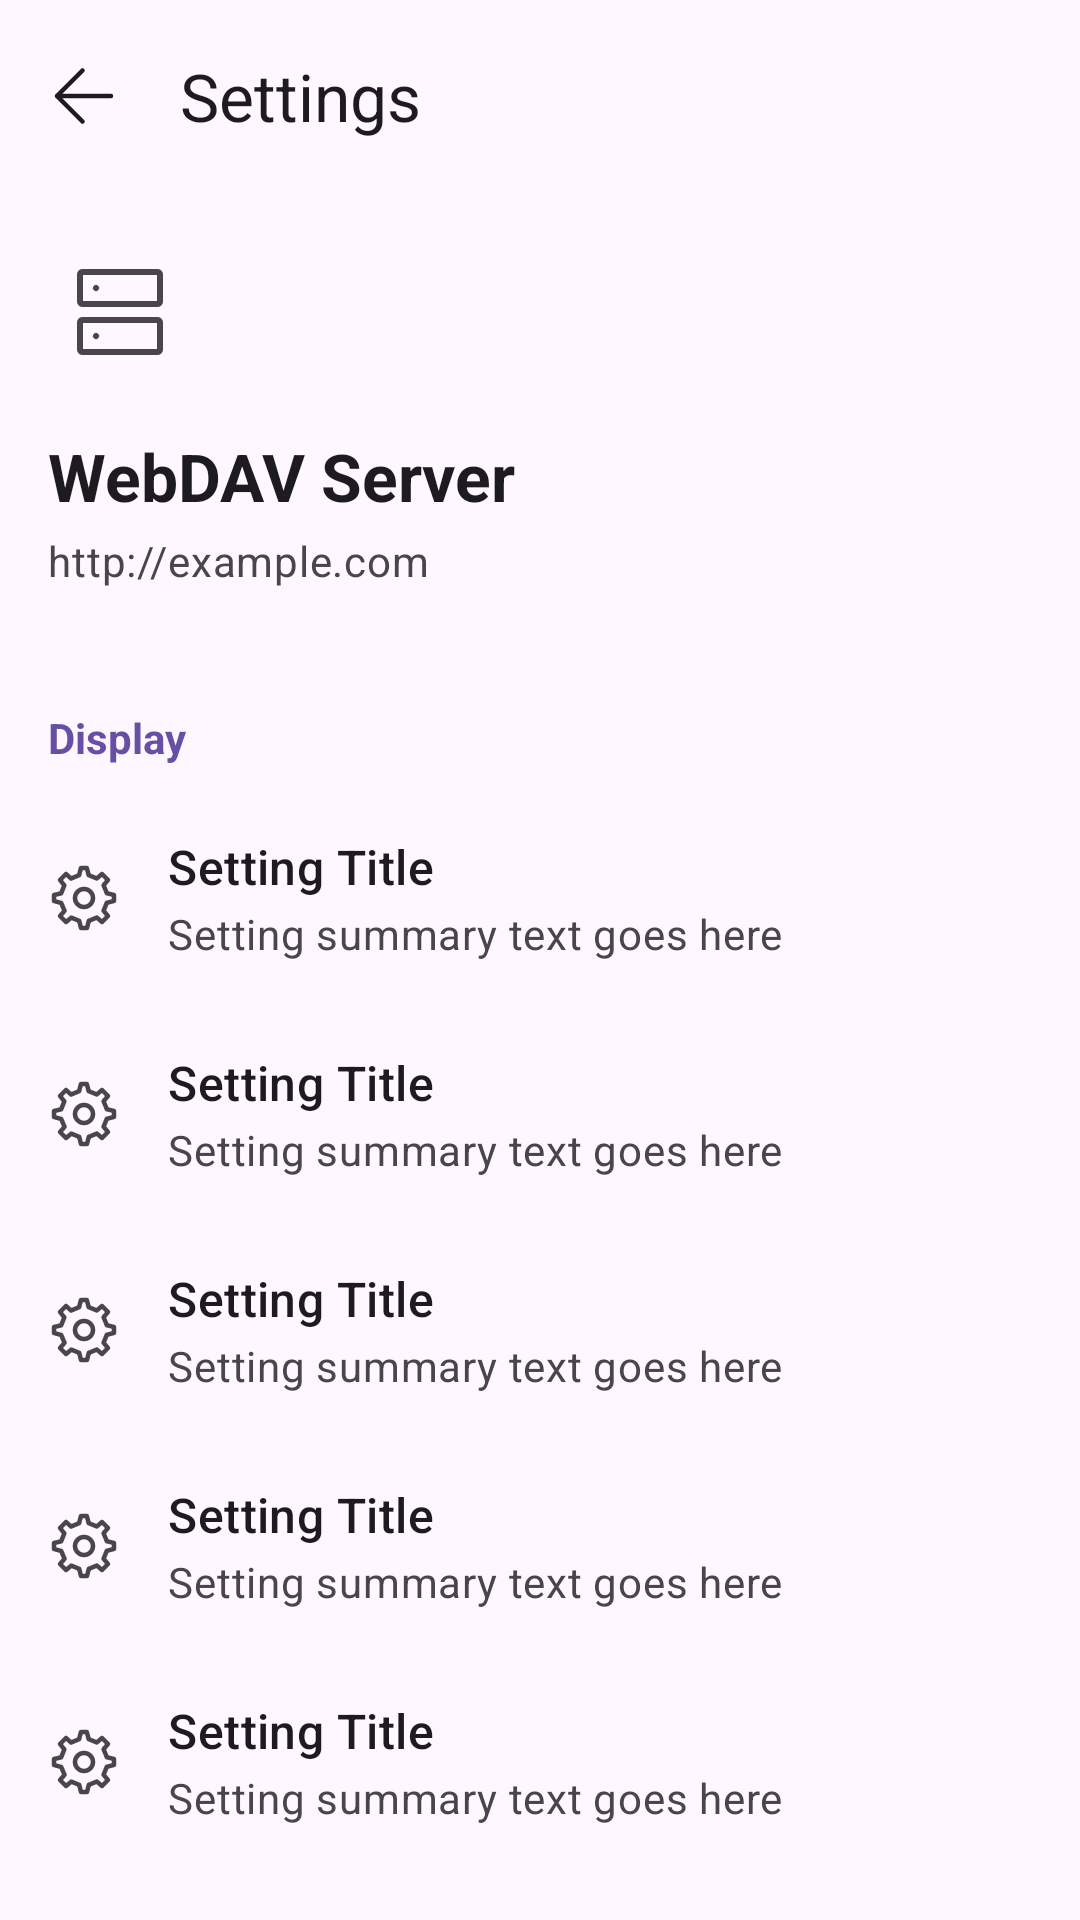

Icons on this 1080*1920 Android screen, each with its box as (x1, y1, x2, y2):
ior server: (77, 269, 163, 355)
